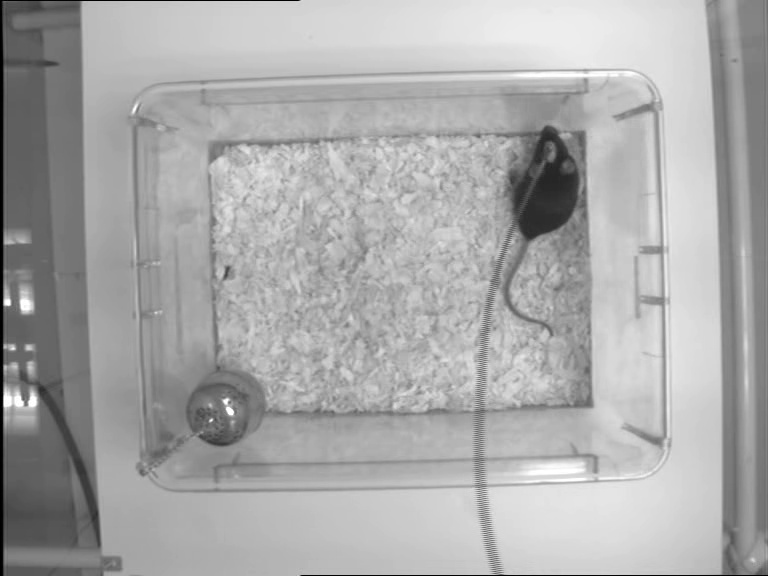mice: (499, 125, 579, 339)
